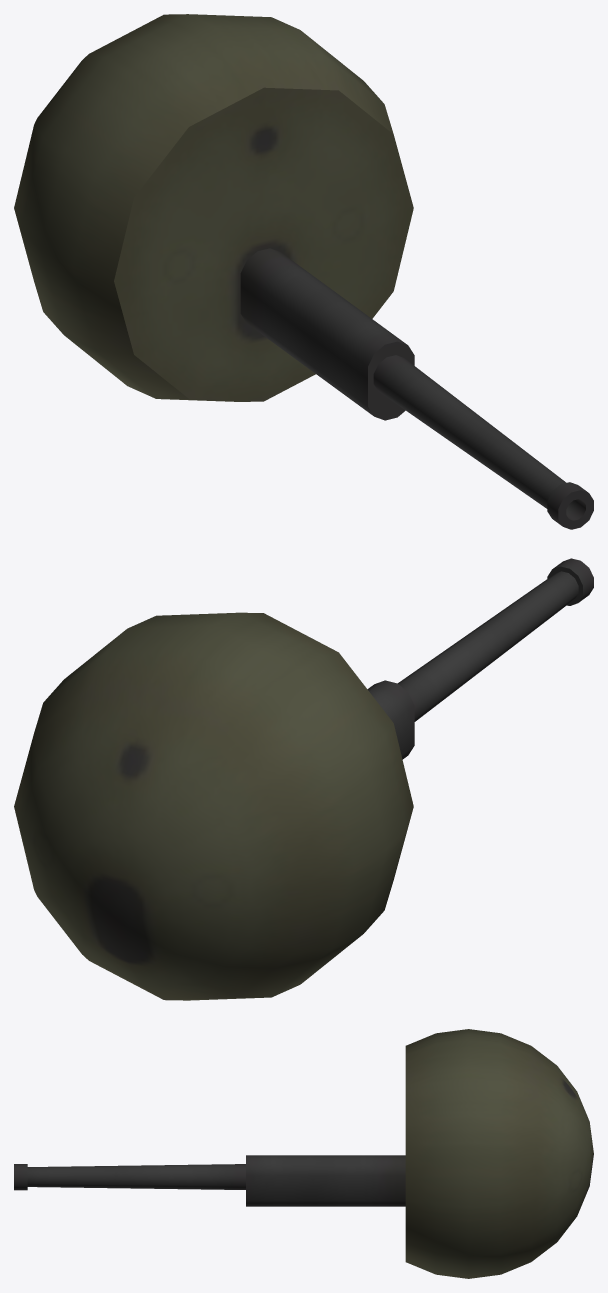
File: T-35_Cannon_Small.fbx
3 views of the same model, one above another, from view 1: azimuth 30°, elevation 25°; view 2: azimuth 150°, elevation 25°; view 3: azimuth 270°, elevation 25° (orthographic). The views are drawn at different scales.
Parts seen in each view (by area): view 1: T-35_Cannon_Small; view 2: T-35_Cannon_Small; view 3: T-35_Cannon_Small.
Part boxes in pixels (x1=…): T-35_Cannon_Small: x1=14, y1=14, x2=593, y2=529; T-35_Cannon_Small: x1=14, y1=558, x2=593, y2=1000; T-35_Cannon_Small: x1=14, y1=1029, x2=593, y2=1278.
Size of the model in its own units: 0.1971 by 0.1971 by 0.4557.
